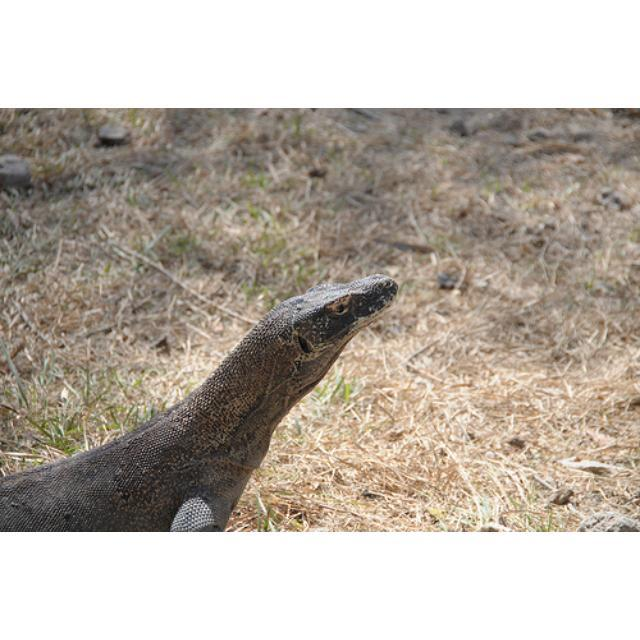KomodoDragon: (1, 274, 400, 531)
